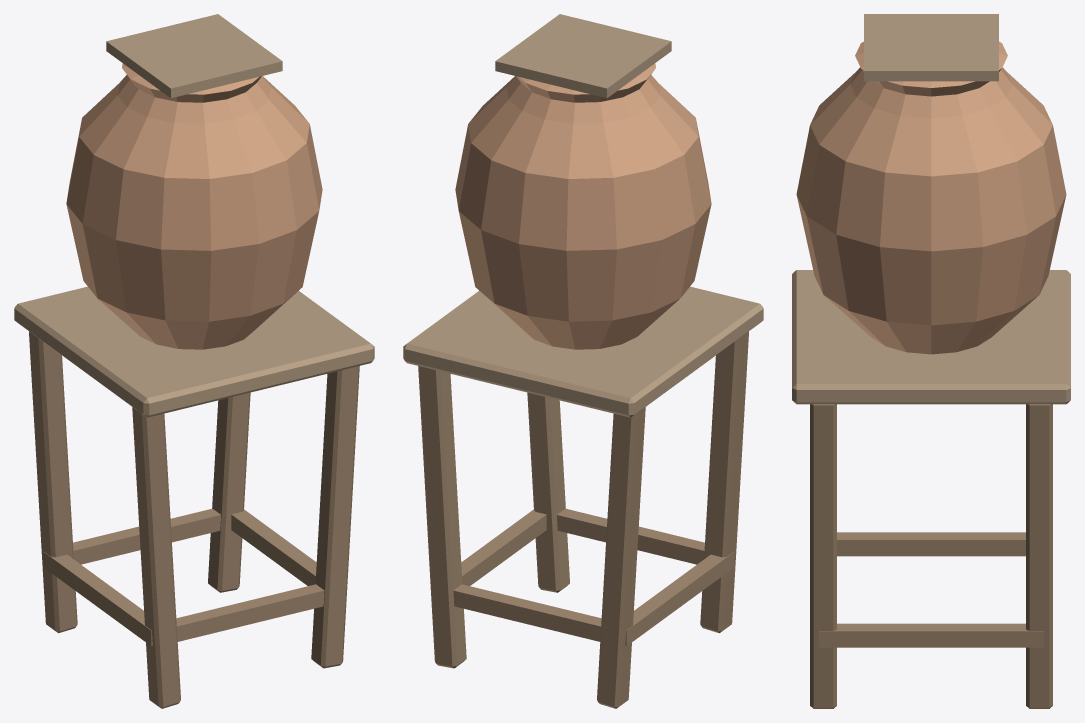
Rendered from kup_sehpa.glb.
3 views of the same model, side by side, from view 1: azimuth 30°, elevation 25°; view 2: azimuth 150°, elevation 25°; view 3: azimuth 270°, elevation 25° (orthographic). The views are drawn at different scales.
Visible parts, largest first — view 1: kup_sehpa; view 2: kup_sehpa; view 3: kup_sehpa.
Part boxes in pixels (x1,y1,x2,y2): kup_sehpa: [14, 14, 374, 708]; kup_sehpa: [403, 14, 763, 708]; kup_sehpa: [792, 14, 1070, 708].
Size of the model in its own units: 0.62 by 1.52 by 0.62.
